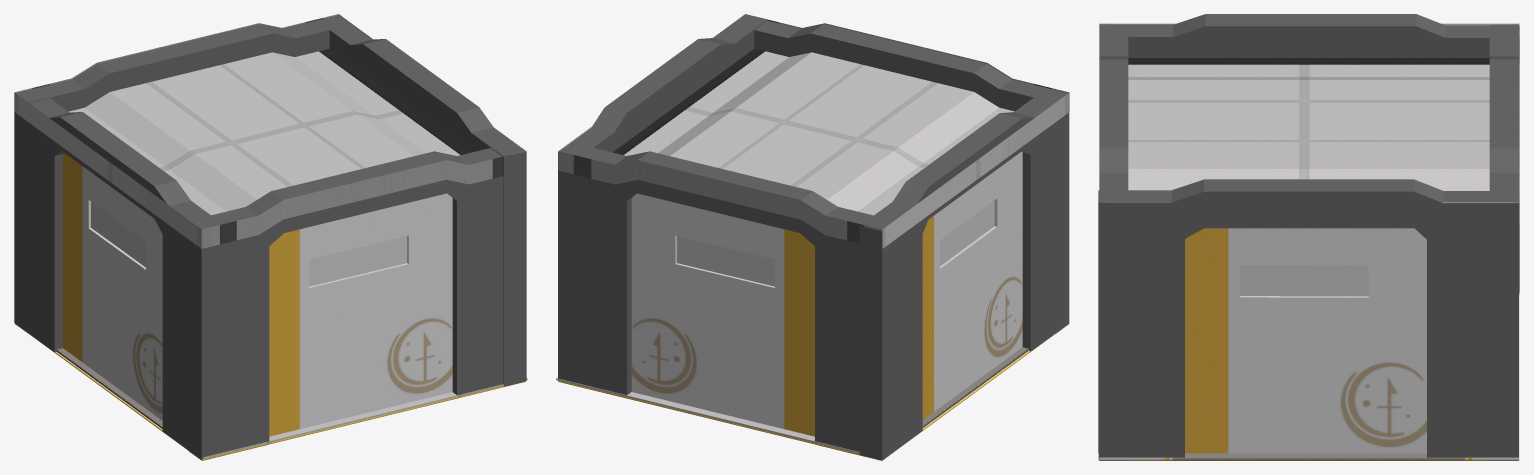
The model's file is card_cross.glb.
3 renders of one model, left to right at view 1: azimuth 30°, elevation 25°; view 2: azimuth 150°, elevation 25°; view 3: azimuth 270°, elevation 25°, orthographic. The views are drawn at different scales.
Parts seen in each view (by area): view 1: ceiling.002, InnerDoor1, door1, door2, InnerDoor2, door3, door0, Cube.010, Cube; view 2: ceiling.002, InnerDoor0, door0, door2, InnerDoor2, door1, door3, Cube.010, Cube; view 3: InnerDoor3, door3, ceiling.002, door2, door0, door1, Cube.010.
Part boxes in pixels (x1,y1,x2,y2): ceiling.002: (14, 14, 525, 248); InnerDoor1: (269, 193, 452, 436); door1: (189, 148, 503, 460); door2: (14, 98, 222, 459); InnerDoor2: (62, 153, 162, 420); door3: (329, 24, 526, 386); door0: (15, 15, 351, 329); Cube.010: (56, 348, 527, 458); Cube: (15, 324, 525, 460); ceiling.002: (558, 14, 1069, 248); InnerDoor0: (631, 193, 814, 436); door0: (558, 142, 894, 460); door2: (859, 88, 1069, 460); InnerDoor2: (922, 152, 1022, 419); door1: (754, 20, 1068, 333); door3: (571, 14, 767, 152); Cube.010: (556, 347, 1028, 453); Cube: (558, 324, 1068, 460); InnerDoor3: (1185, 228, 1426, 453); door3: (1098, 179, 1489, 459); ceiling.002: (1099, 23, 1519, 223); door2: (1099, 14, 1519, 294); door0: (1489, 25, 1518, 460); door1: (1099, 37, 1128, 460); Cube.010: (1099, 292, 1519, 460).
Bounding box in the file's own units: 4.02 × 2.85 × 4.01.
Materials: 9 (4 with a texture image).
